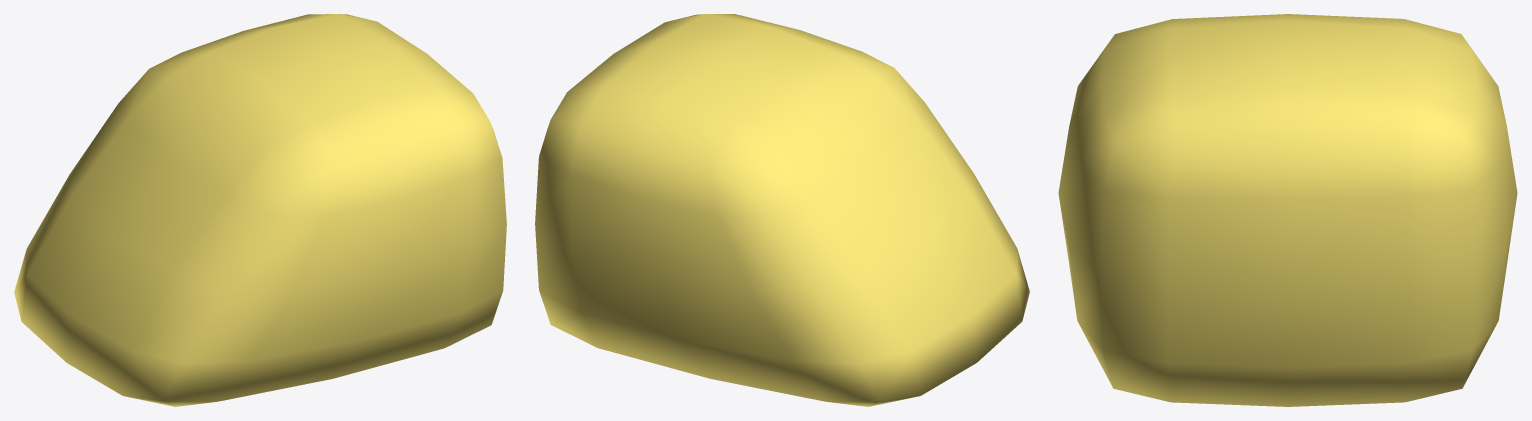
The model's file is mango2.fbx.
3 views of the same model, side by side, from view 1: azimuth 30°, elevation 25°; view 2: azimuth 150°, elevation 25°; view 3: azimuth 270°, elevation 25° (orthographic). The views are drawn at different scales.
Parts seen in each view (by area): view 1: mango_bits_small; view 2: mango_bits_small; view 3: mango_bits_small.
Part boxes in pixels (x1,y1,x2,y2): mango_bits_small: (14,14,506,406); mango_bits_small: (535,14,1029,406); mango_bits_small: (1058,14,1517,406).
Bounding box in the file's own units: 1.86 × 1.27 × 1.57.
